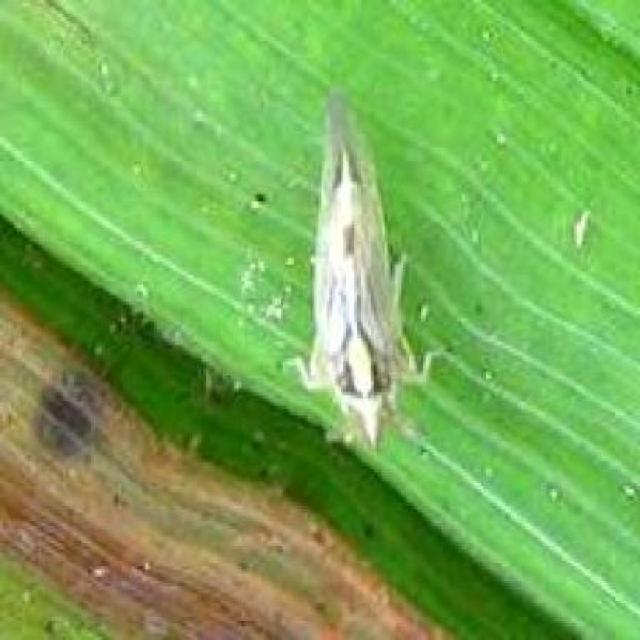brown-planthopper: (307, 82, 416, 453)
